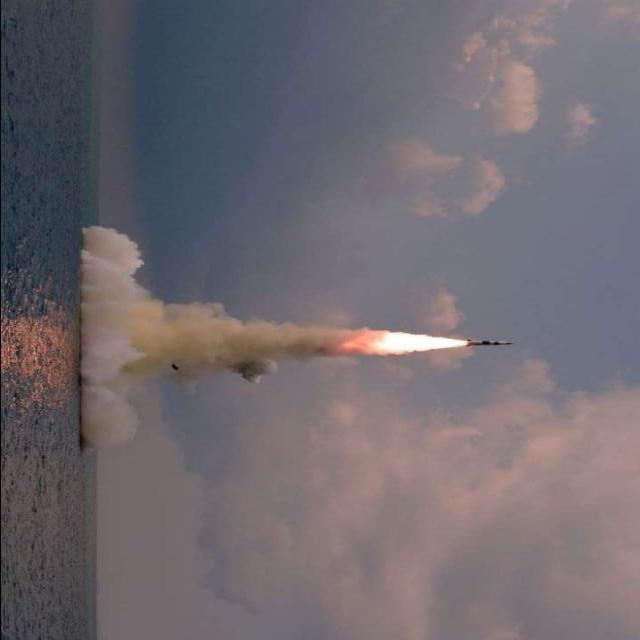missile: (465, 325, 509, 361)
